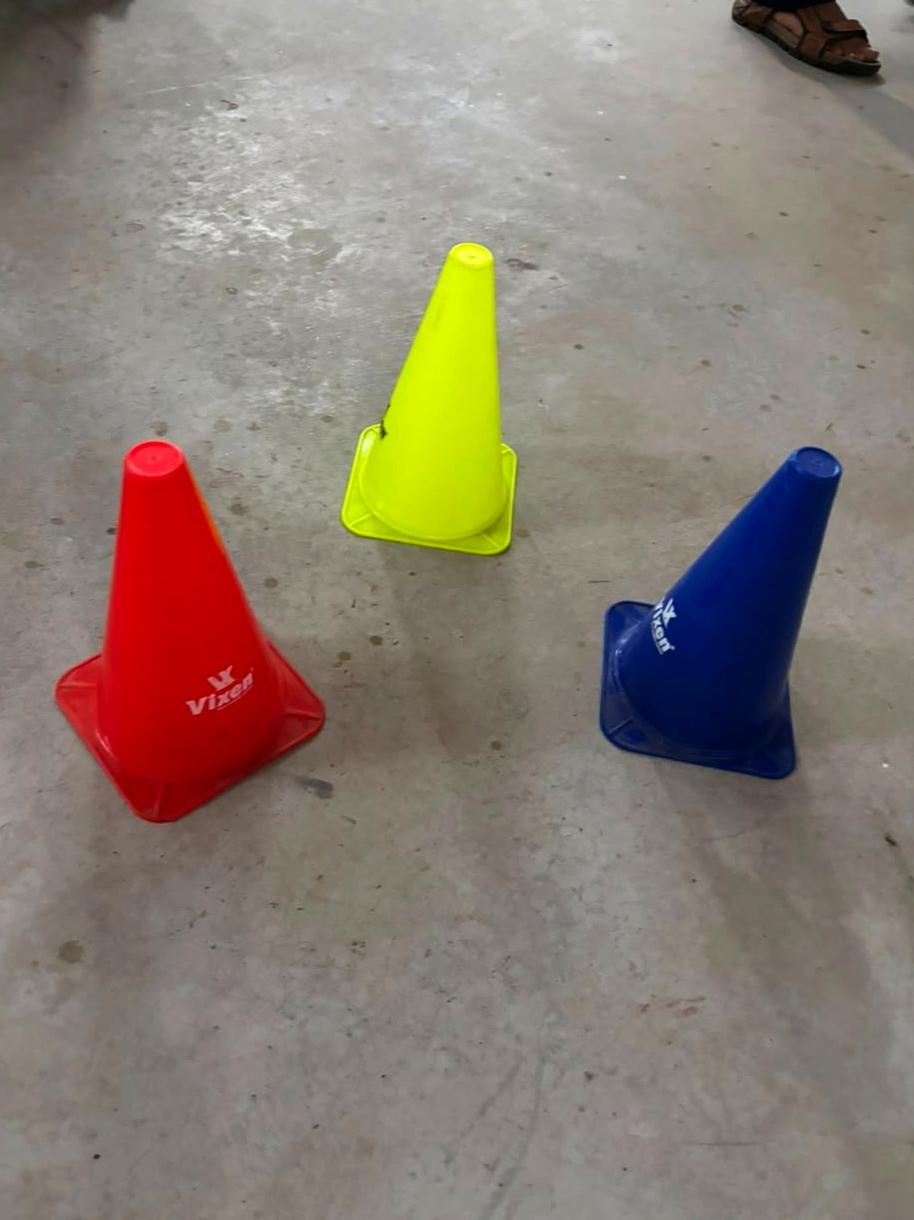0 cone: (56, 440, 324, 822), (600, 447, 840, 779), (341, 244, 516, 555)
